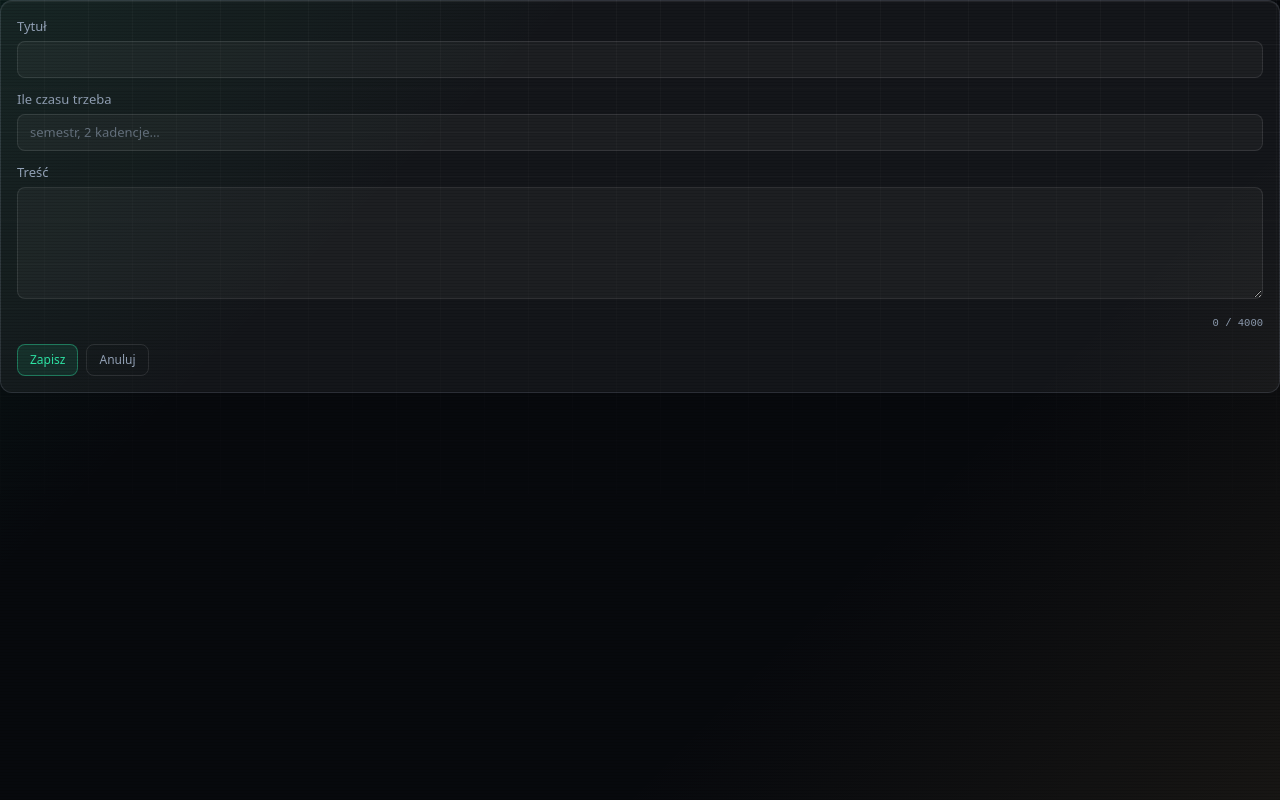
Test: FormularzWpisu › błąd serwera widać nad przyciskiem, a formularz zostaje
Click the button "Zapisz": [48, 360] box [17,344,78,376]
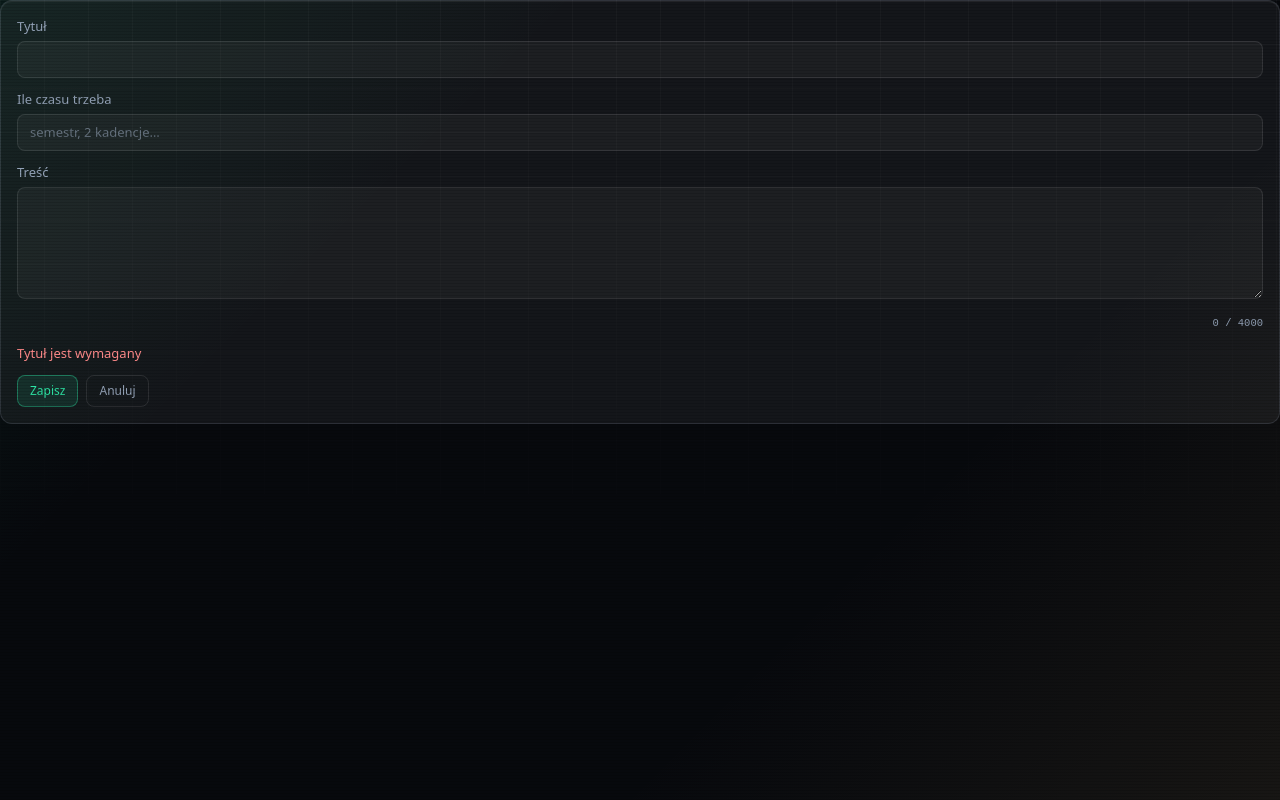
Expected: the field labelled "Tytuł" is shown, [17,40,1263,78]
Result: the message reads "Tytuł jest wymagany" at [17,344,141,362]
